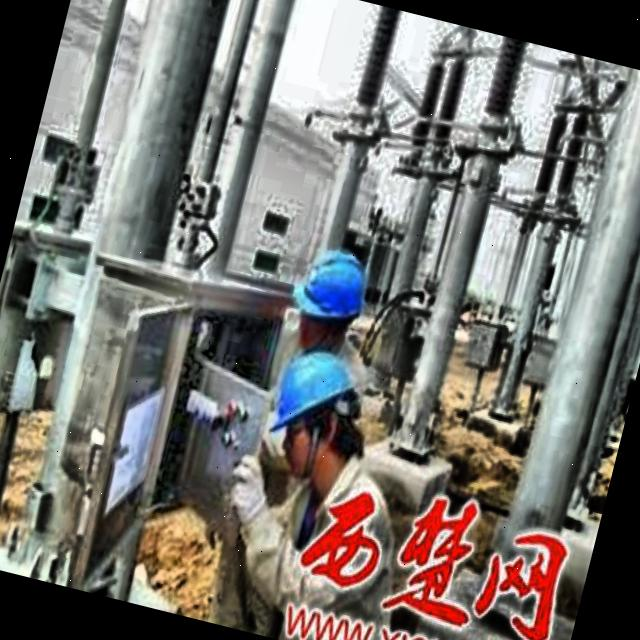helmet: (256, 338, 374, 486), (281, 236, 378, 364)
